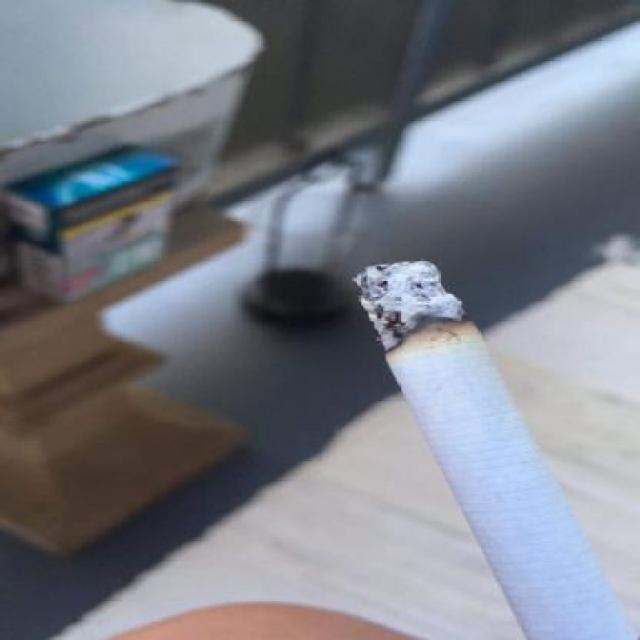cigarette: (333, 238, 639, 639)
